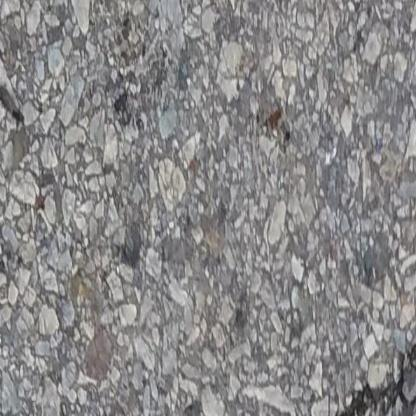Cracks: (315, 318, 416, 416)
